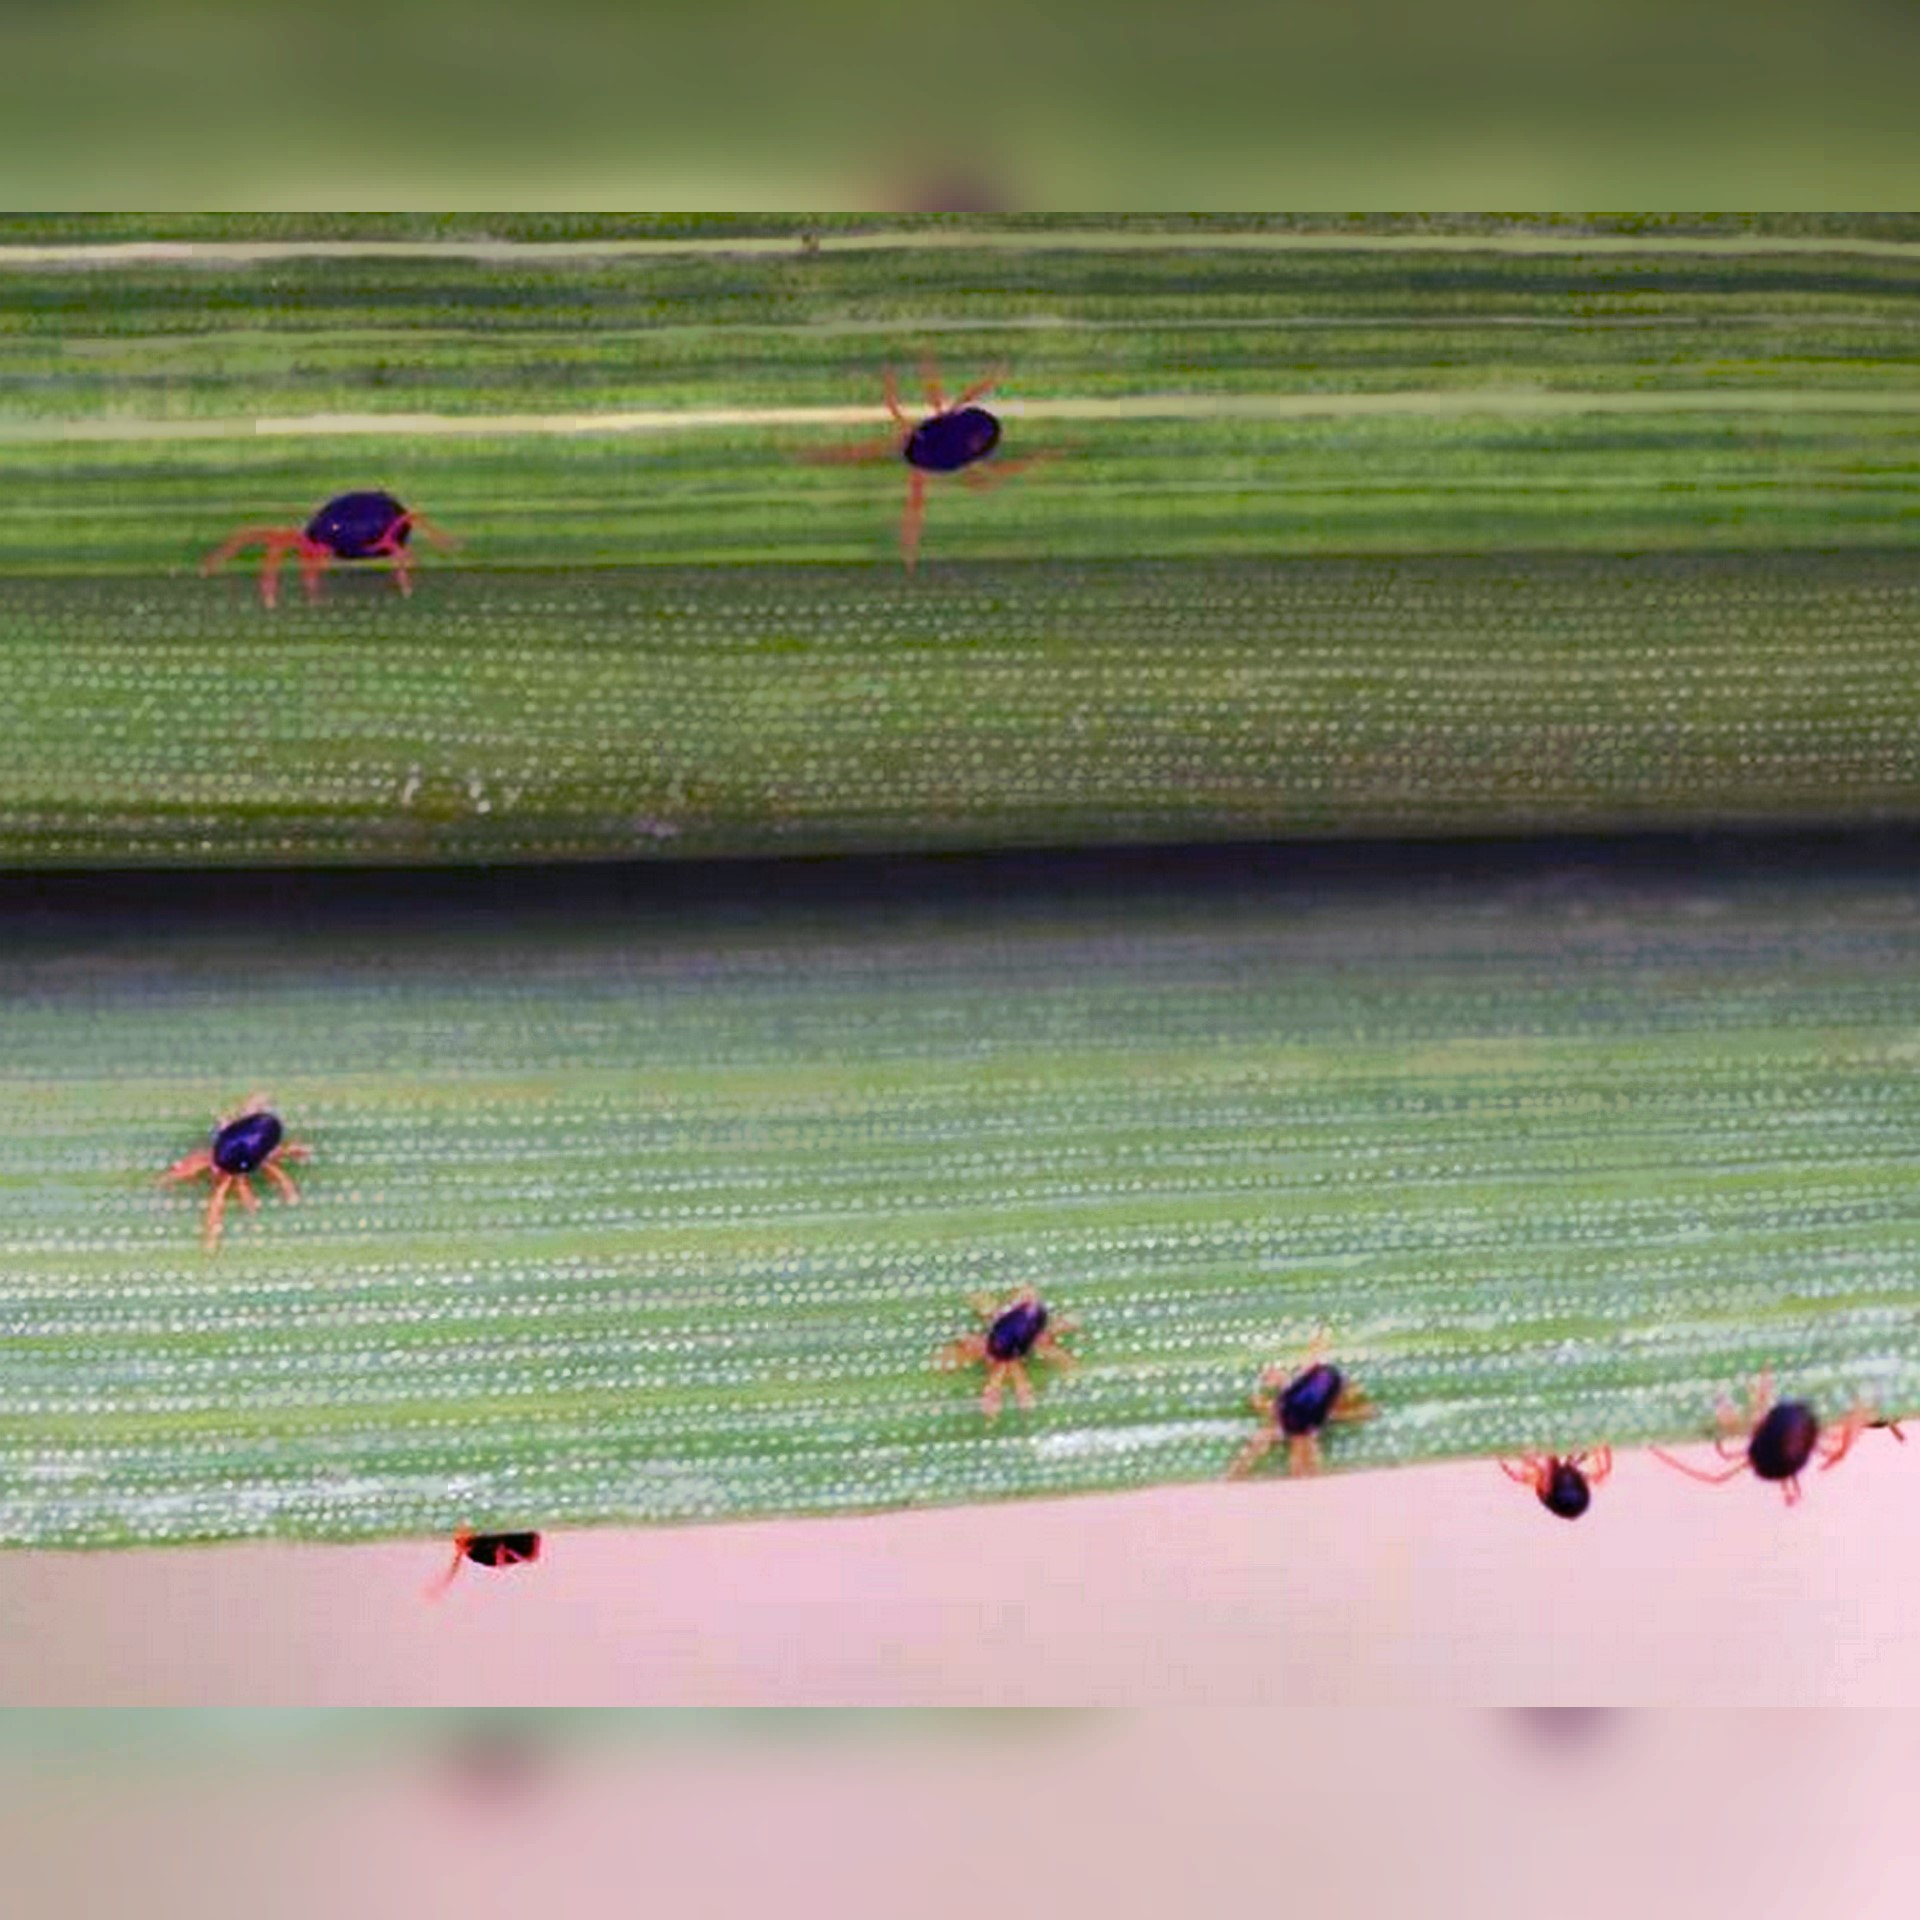Wheat Red Spider: (186, 455, 469, 608)
